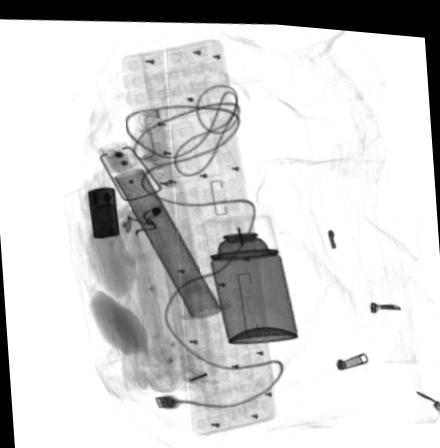Lighter: (88, 185, 119, 237)
Sprayer: (202, 210, 298, 339)
